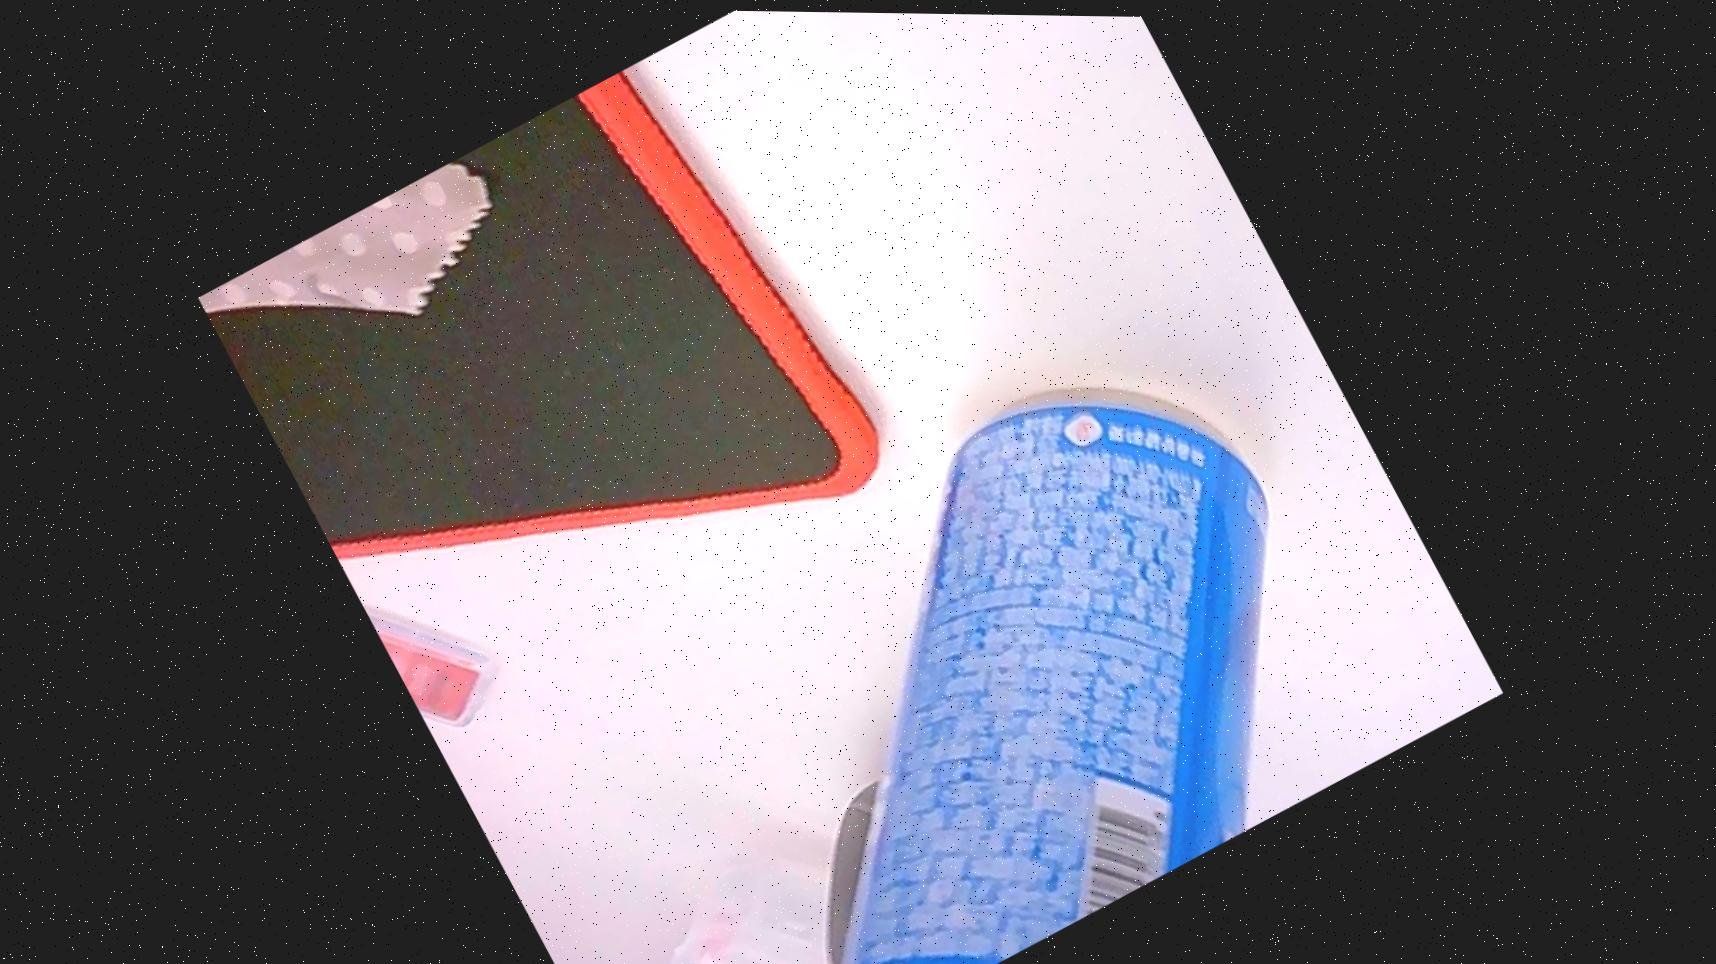letsbe: (582, 308, 1410, 964)
